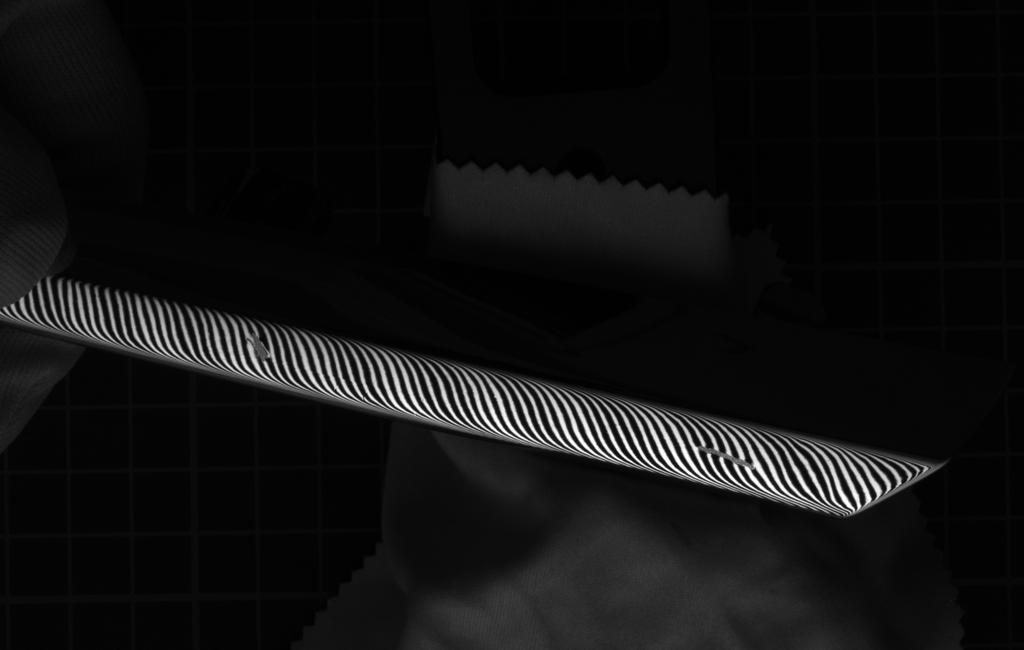Scratch: (687, 434, 771, 475), (236, 326, 283, 370)
